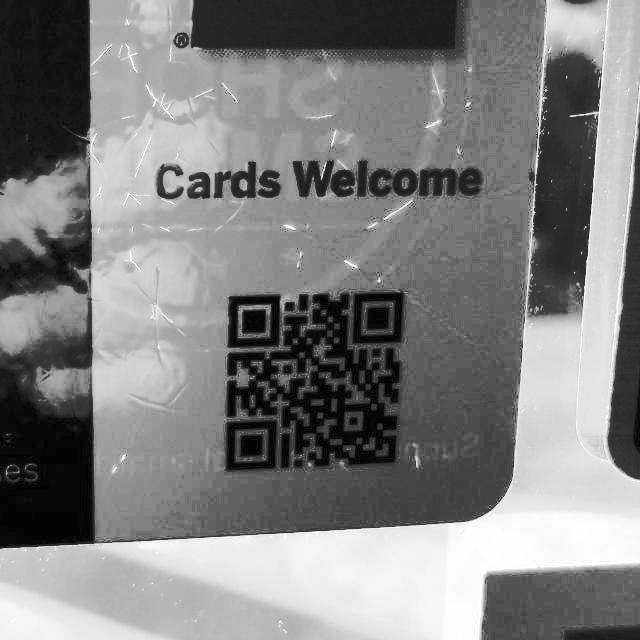qr_code: (206, 264, 414, 478)
